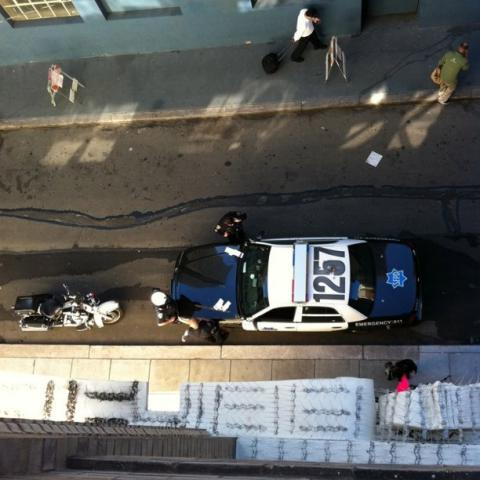car: (170, 239, 424, 336)
motorcycle: (10, 285, 124, 332)
